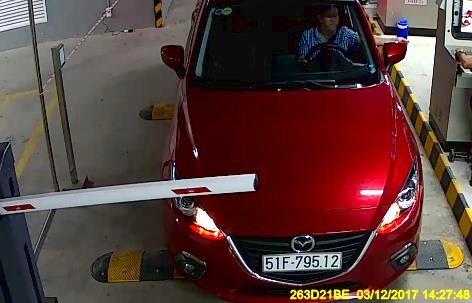plate: (260, 253, 344, 274)
